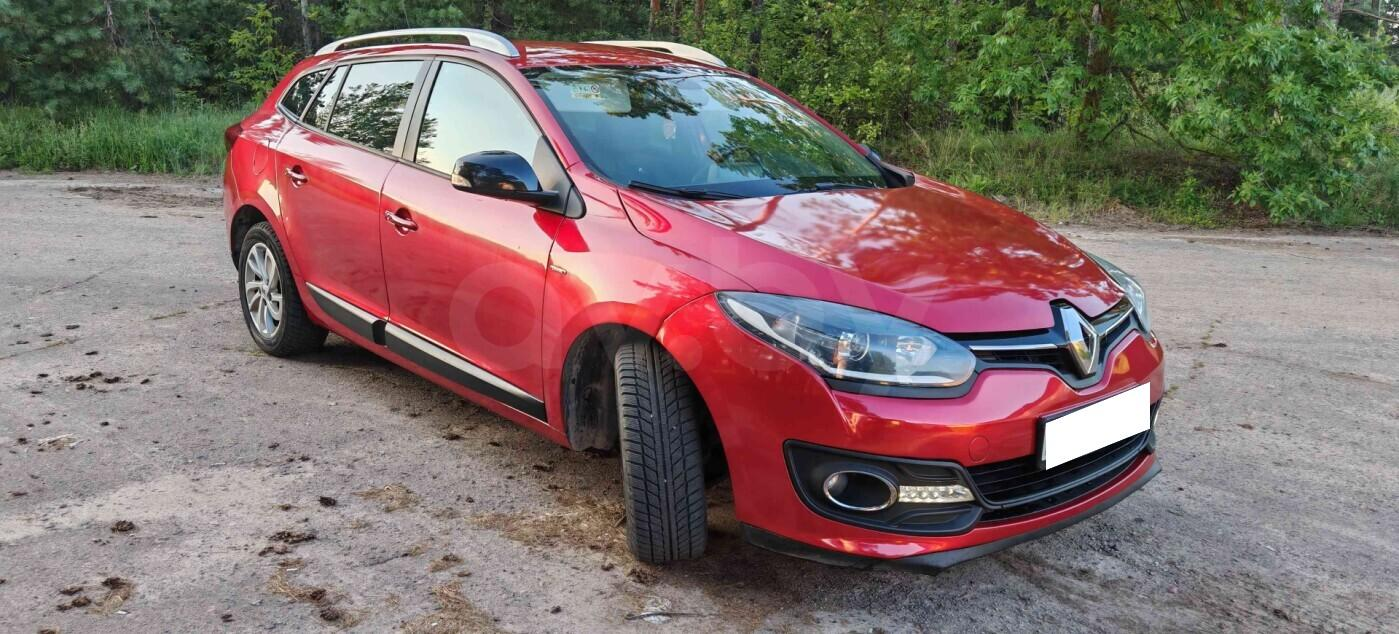Megane_2012-2014: (218, 31, 1180, 605)
